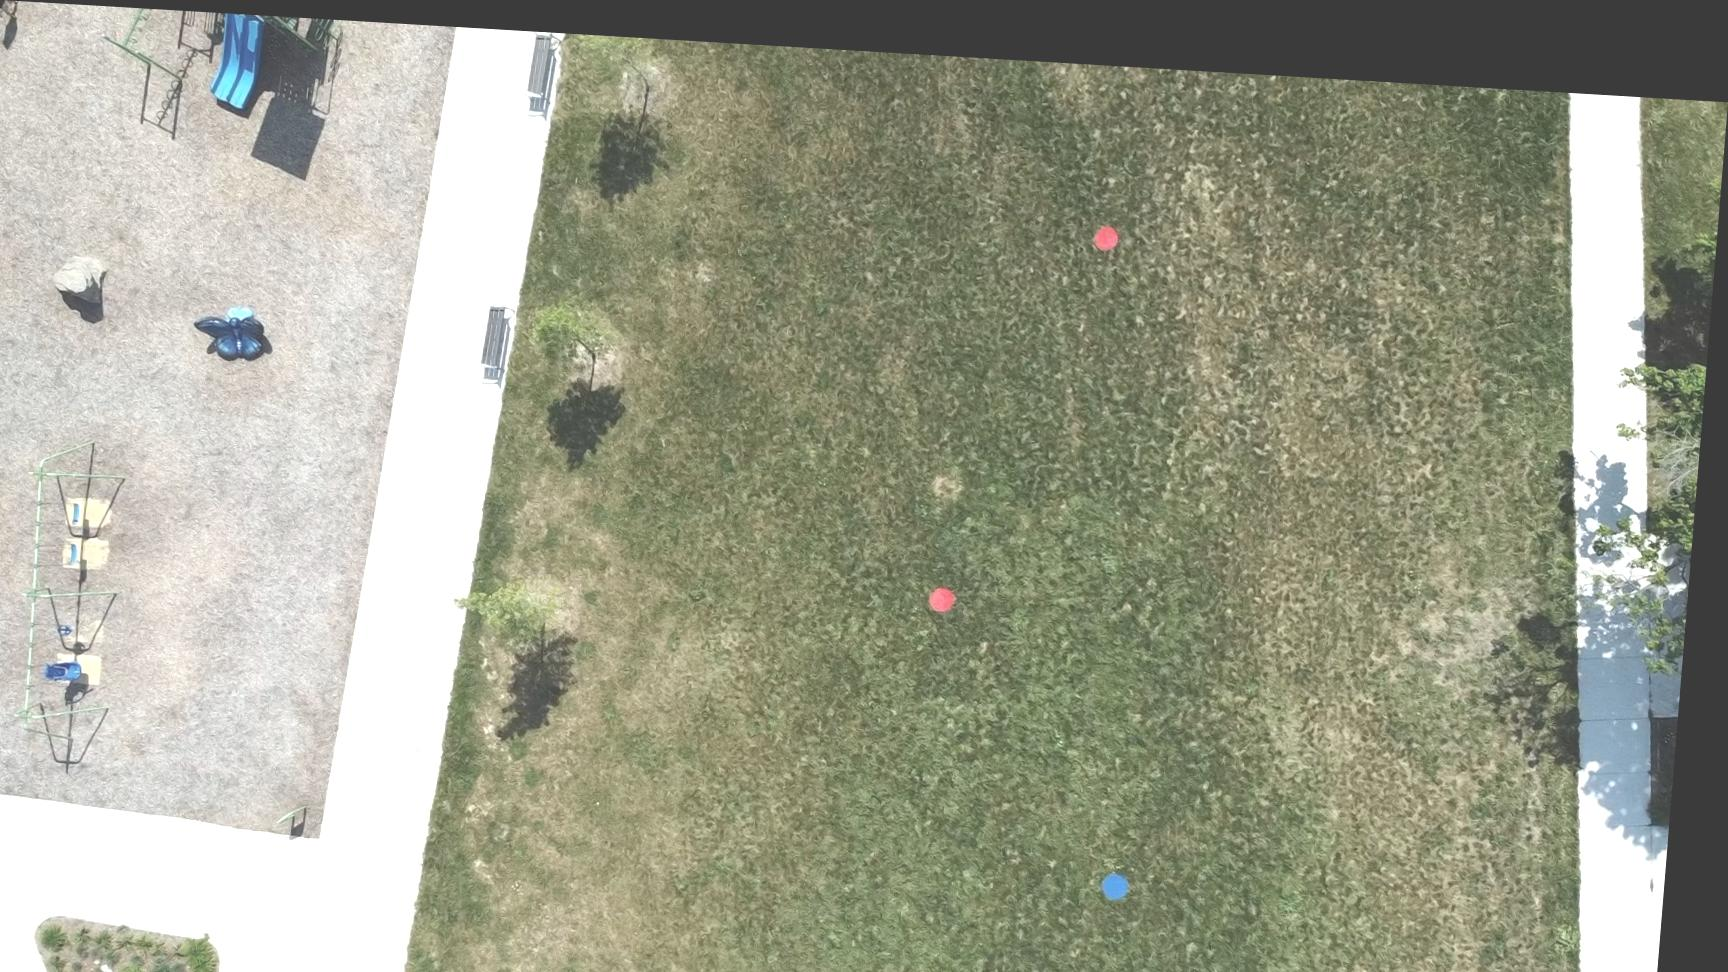Blue: (1114, 857, 1144, 887)
Red: (936, 573, 967, 602), (1095, 211, 1124, 239)
